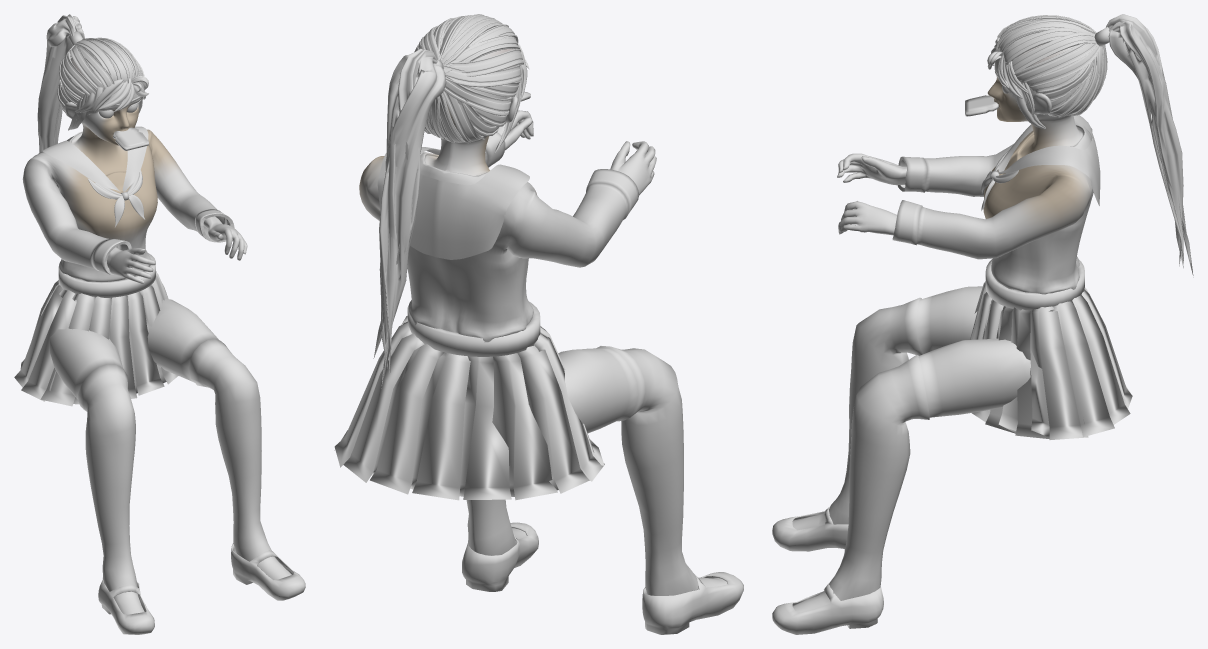
Rendered from Driver.fbx.
The picture shows the model from 3 angles, left to right: view 1: azimuth 30°, elevation 25°; view 2: azimuth 150°, elevation 25°; view 3: azimuth 270°, elevation 25°; orthographic projection. The views are drawn at different scales.
Parts seen in each view (by area): view 1: Skirt; view 2: Skirt; view 3: Skirt.
Boxes of the visible parts, <box> form: Skirt: <box>14,14,305,634</box>; Skirt: <box>334,14,743,634</box>; Skirt: <box>772,14,1193,634</box>.
Size of the model in its own units: 64.06 by 166 by 111.
